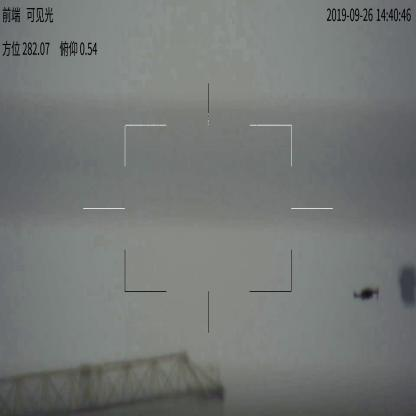uav: (352, 284, 382, 306)
